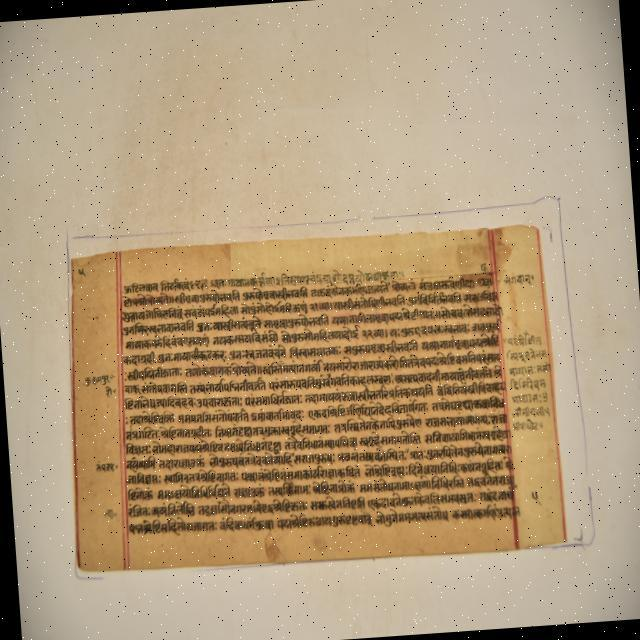text_paragraph: (69, 224, 567, 571)
